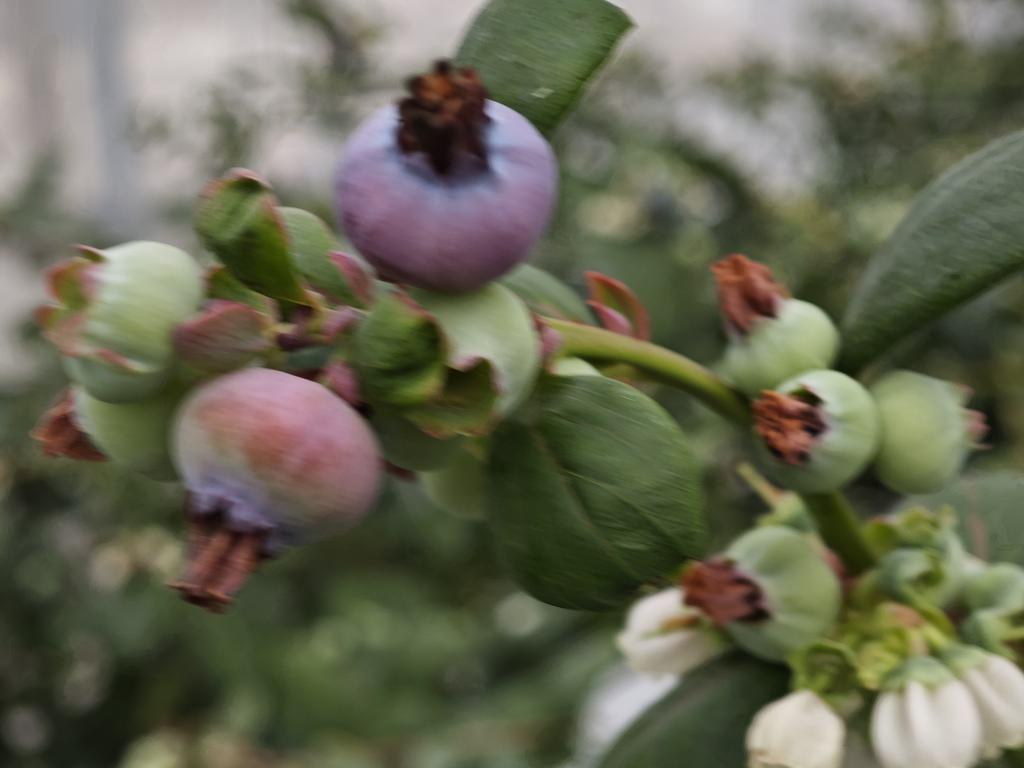Semi-RipeBlueBerry: (335, 84, 560, 291), (169, 366, 385, 557)
UnripeBlueBerry: (38, 237, 204, 401)
